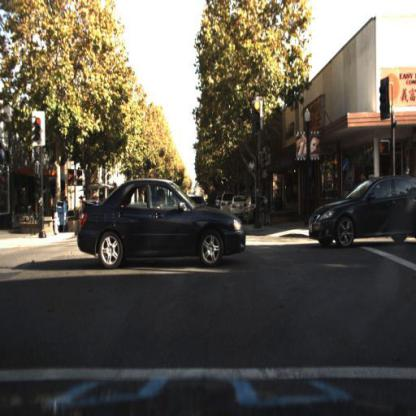car: (69, 178, 246, 272), (308, 166, 416, 254), (307, 176, 416, 245)
trafficLight-Red: (31, 111, 45, 145), (33, 112, 45, 144), (252, 97, 262, 133)
